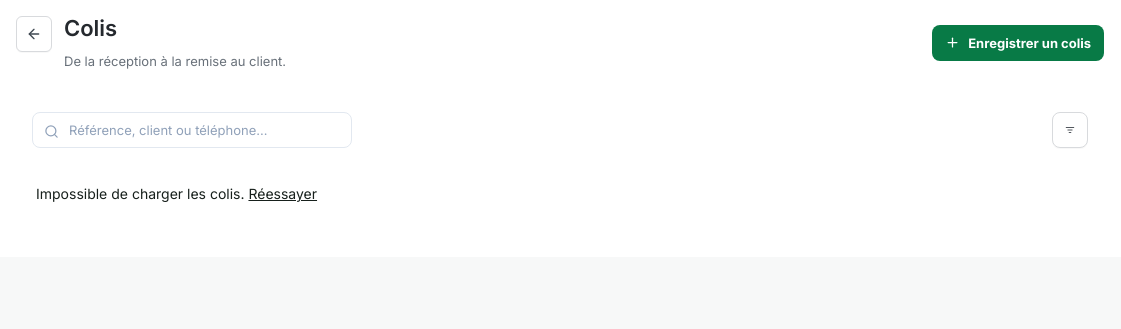
Test case: Registre fret › ne transforme pas une panne en liste vide
Expected: the message shows "Impossible de charger les colis", [36,186,244,203]
Click the button "Réessayer": (283, 194) [248,184,317,204]
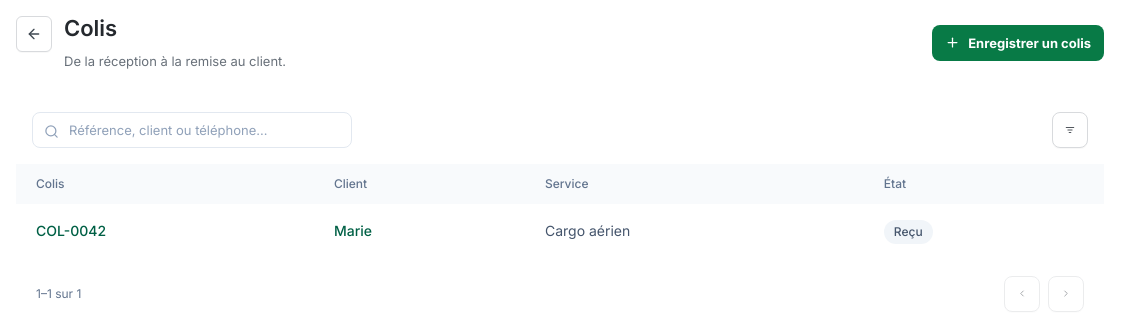
Expected: the button "COL-0042" is shown, [36,221,106,241]
